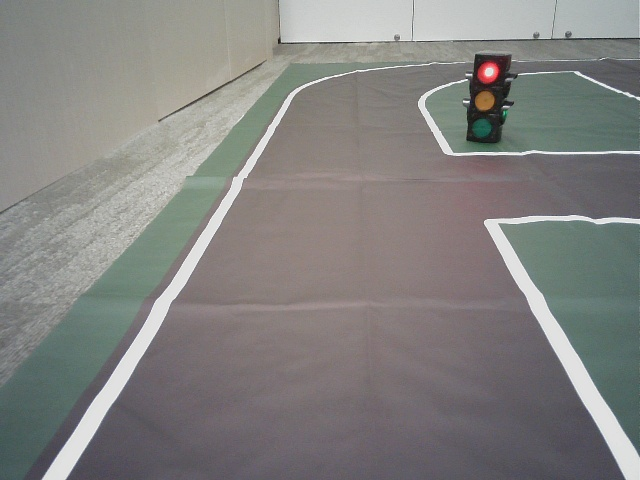red: (472, 56, 496, 140)
